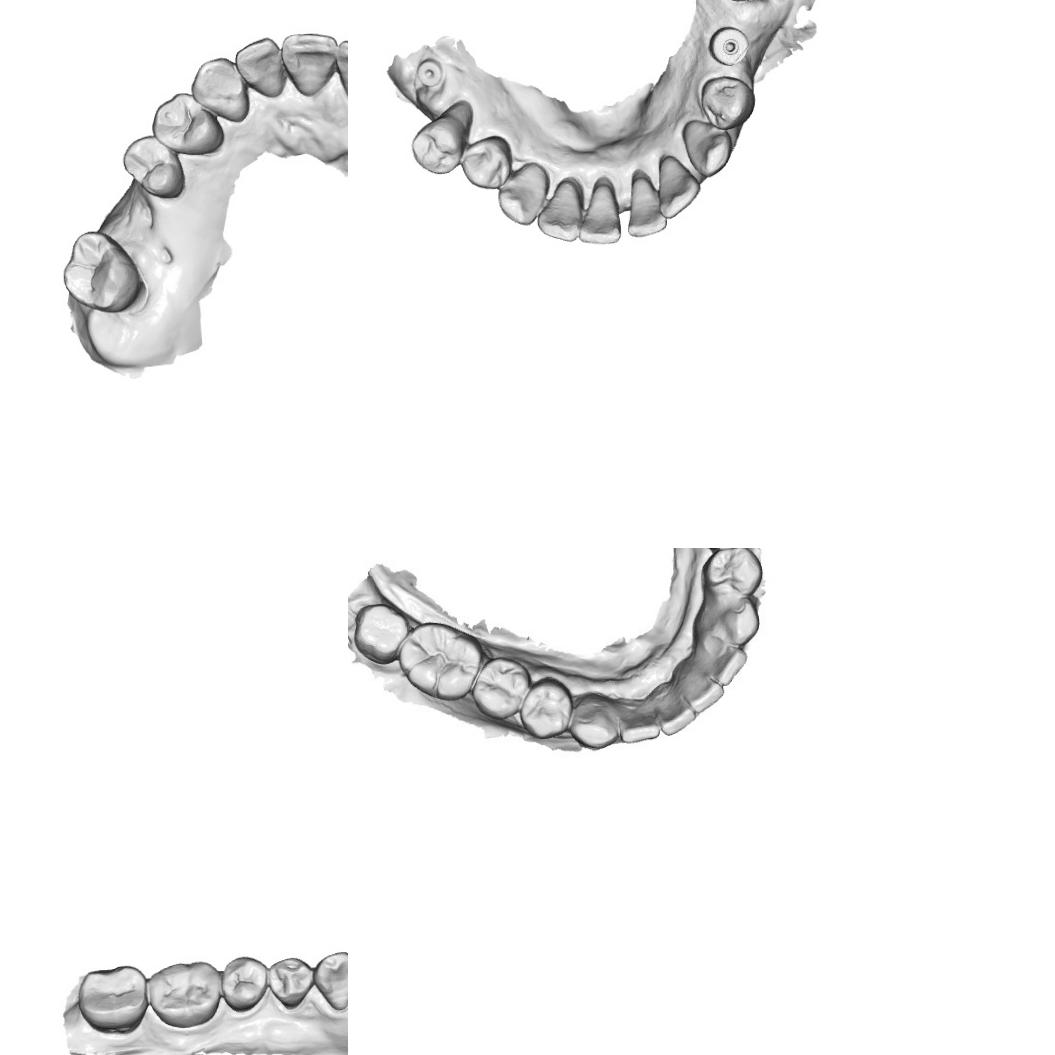canine: (188, 56, 252, 124), (496, 162, 550, 228), (679, 118, 736, 178), (705, 594, 765, 648), (572, 690, 618, 754), (313, 950, 348, 1011)
implant: (707, 24, 751, 68), (414, 57, 446, 89)
incisor: (279, 31, 340, 99), (233, 35, 286, 100), (690, 634, 748, 686), (654, 154, 700, 219), (624, 176, 668, 238), (575, 184, 620, 244), (536, 187, 583, 242), (678, 666, 720, 712), (620, 702, 660, 750), (656, 686, 696, 734), (335, 37, 348, 107)
molar: (59, 227, 144, 314), (393, 620, 482, 702), (76, 964, 149, 1034), (148, 960, 222, 1029), (351, 602, 407, 659)
premolar: (148, 90, 225, 158), (121, 132, 186, 202), (408, 114, 468, 176), (699, 75, 757, 133), (460, 133, 514, 191), (517, 680, 571, 735), (220, 955, 268, 1012), (475, 660, 526, 711), (268, 956, 314, 1010), (705, 548, 762, 591)
